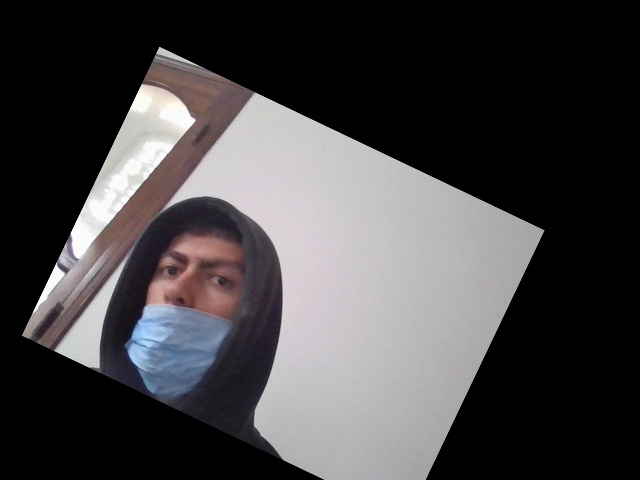mask_weared_incorrect: (126, 210, 247, 412)
